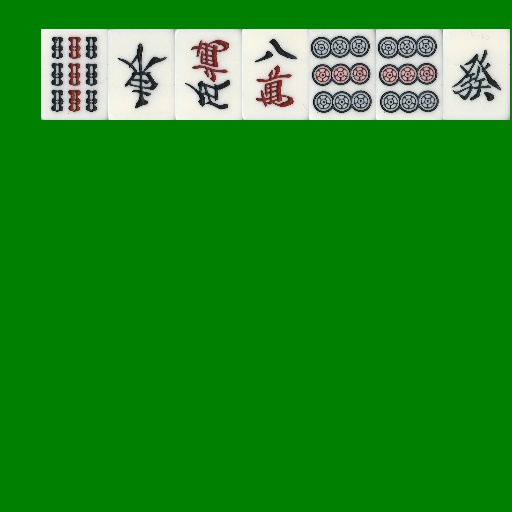5m: (175, 29, 242, 120)
8m: (242, 29, 309, 120)
9p: (309, 29, 376, 120), (376, 29, 443, 120)
9s: (41, 29, 108, 120)
east: (108, 29, 175, 120)
hatsu: (443, 29, 510, 120)
